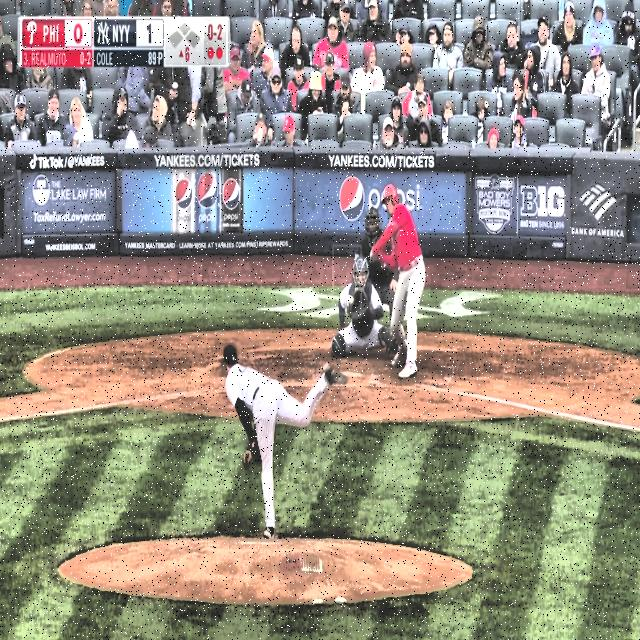baseball: (348, 295, 353, 305)
